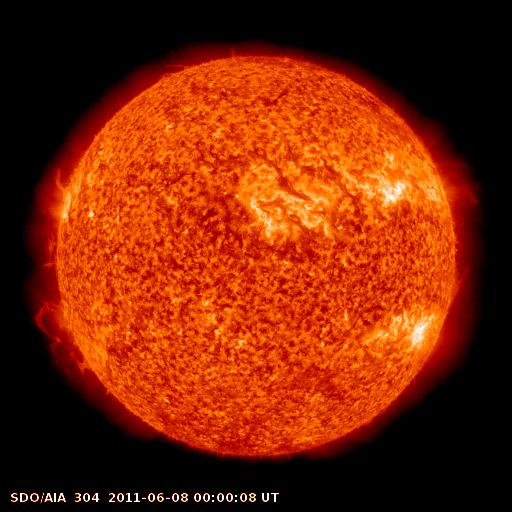prominence: (25, 293, 103, 385), (33, 223, 71, 279), (152, 55, 201, 87)
